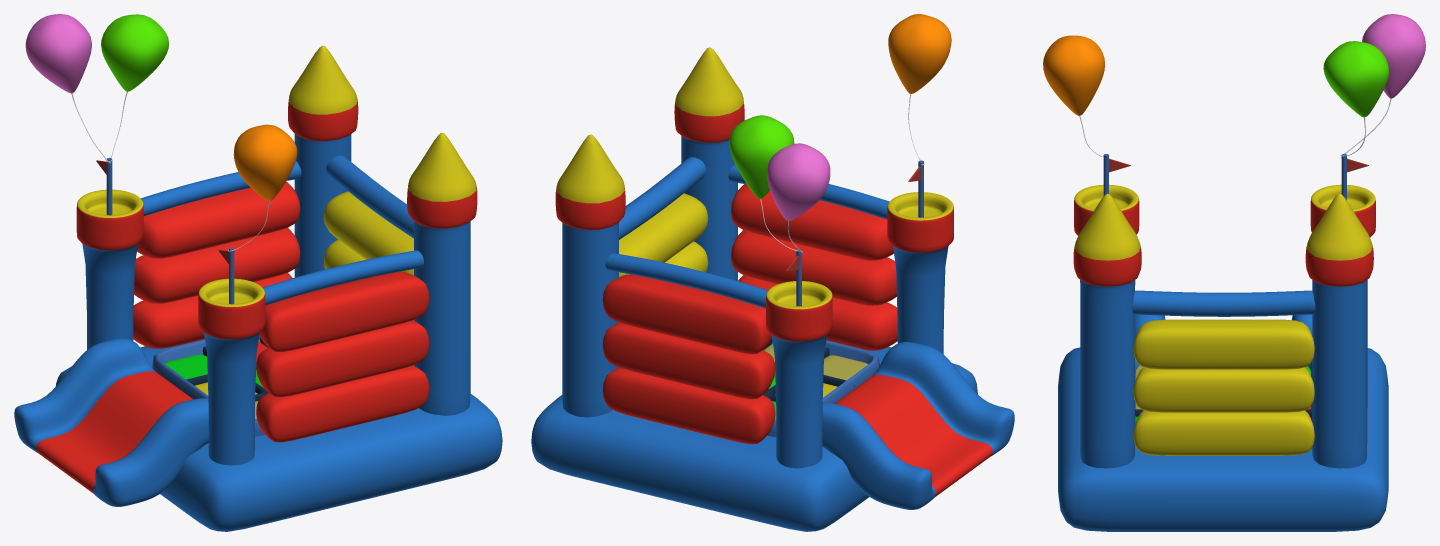
The model's file is castillo texturizado.fbx.
3 renders of one model, left to right at view 1: azimuth 30°, elevation 25°; view 2: azimuth 150°, elevation 25°; view 3: azimuth 270°, elevation 25°, orthographic. The views are drawn at different scales.
Visible parts, largest first — view 1: Plane.030, Cube.047, Cube.042, Cube.036, Cube.044, Cylinder, Cylinder.001, Cube.043, Cube.035, Cube.023, Cube.022, Cylinder.006 (+4 smaller); view 2: Cube.044, Plane.030, Cube.047, Cube.036, Cube.042, Cylinder.001, Cylinder, Cube.043, Cube.022, Cube.035, Cube.023, Cylinder.005 (+4 smaller); view 3: Cube.047, Plane.030, Cube.043, Cylinder.004, Cube.022, Cube.023, Cube.035, Cylinder, Cylinder.001, Cube.036.
Boxes of the visible parts, x1,y1,x2,y2 form: Plane.030: (55,339,502,531); Cube.047: (288,45,477,415); Cube.042: (256,272,429,442); Cube.036: (14,338,208,506); Cube.044: (133,181,300,348); Cylinder: (198,278,265,465); Cylinder.001: (76,189,143,349); Cube.043: (323,191,413,365); Cube.035: (25,14,110,163); Cube.023: (101,14,168,161); Cube.022: (228,124,297,251); Cylinder.006: (262,250,423,305); Cube.044: (602,274,775,444); Plane.030: (531,347,977,531); Cube.047: (555,47,744,417); Cube.036: (822,342,1014,509); Cube.042: (731,184,897,350); Cylinder.001: (766,281,832,468); Cylinder: (887,192,953,353); Cube.043: (619,193,708,277); Cube.022: (888,14,951,165); Cube.035: (767,143,830,253); Cube.023: (729,115,802,251); Cylinder.005: (605,253,767,308); Cube.047: (1073,193,1373,468); Plane.030: (1058,347,1388,531); Cube.043: (1133,319,1314,455); Cylinder.004: (1132,290,1315,316); Cube.022: (1043,35,1104,156); Cube.023: (1323,41,1388,156); Cube.035: (1340,14,1425,158); Cylinder: (1074,184,1139,235); Cylinder.001: (1310,184,1375,237); Cube.036: (1135,314,1312,338).
Size of the model in its own units: 1254 by 1317 by 1167.
